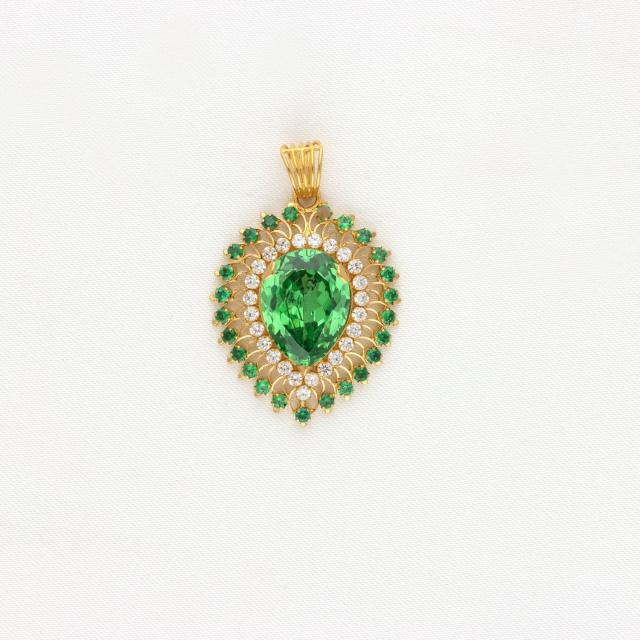missing gem: (316, 206, 332, 221)
